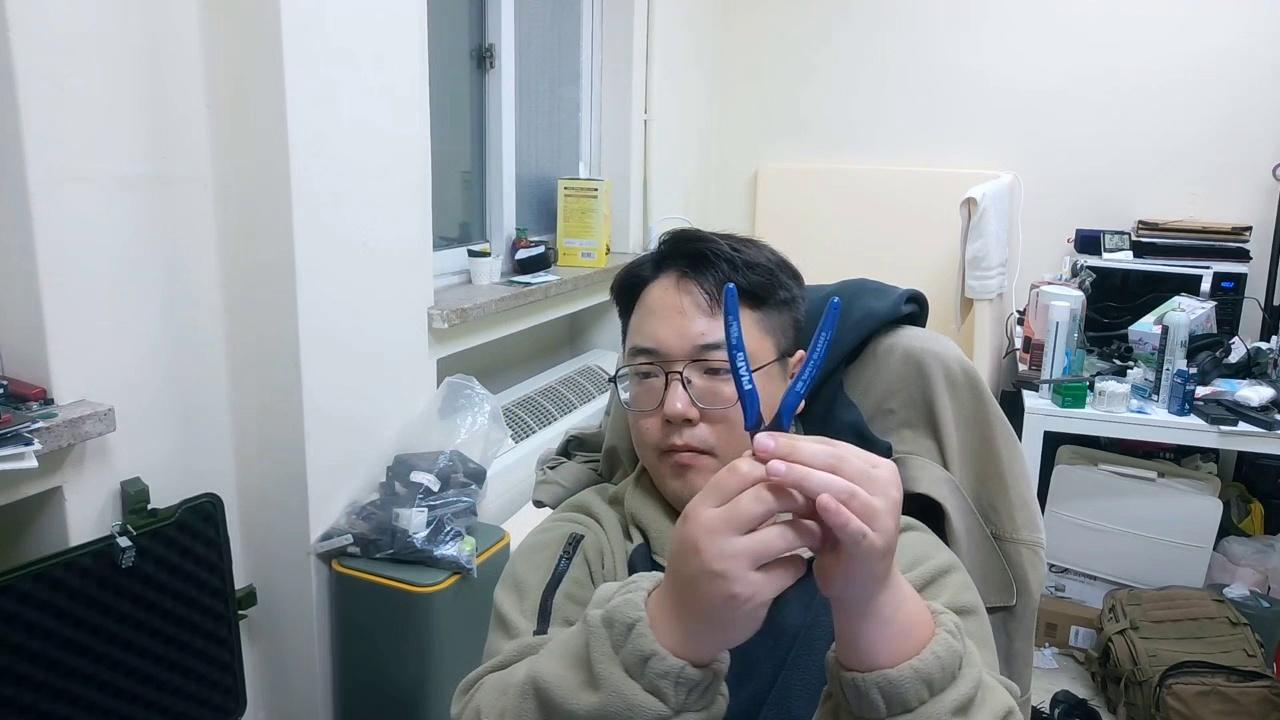blue_pliers: (719, 280, 844, 719)
